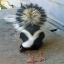skunk: (16, 3, 45, 51)
